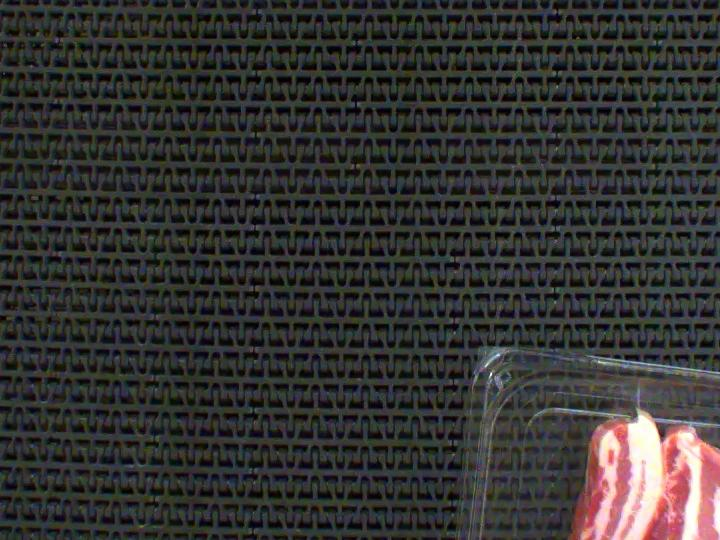packaging-error: (623, 368, 653, 421)
